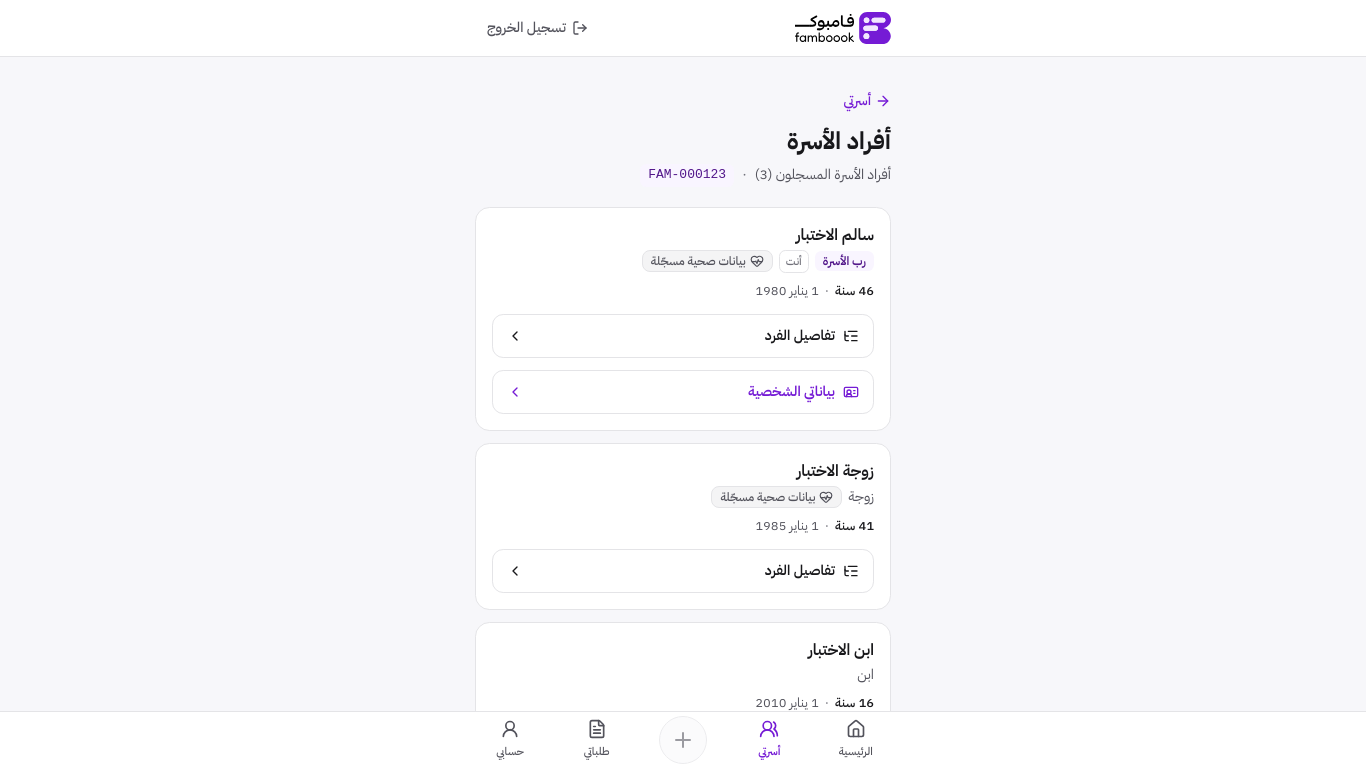
the member sheet «الحالة الصحية» › labels current and ended records, shows the end date only for ended ones, and «غير مسجّل» for a null date
Click the button "تفاصيل الفرد" below "زوجة الاختبار" at (800, 570), box x1=492 y1=549 x2=874 y2=593
(page scrolled)
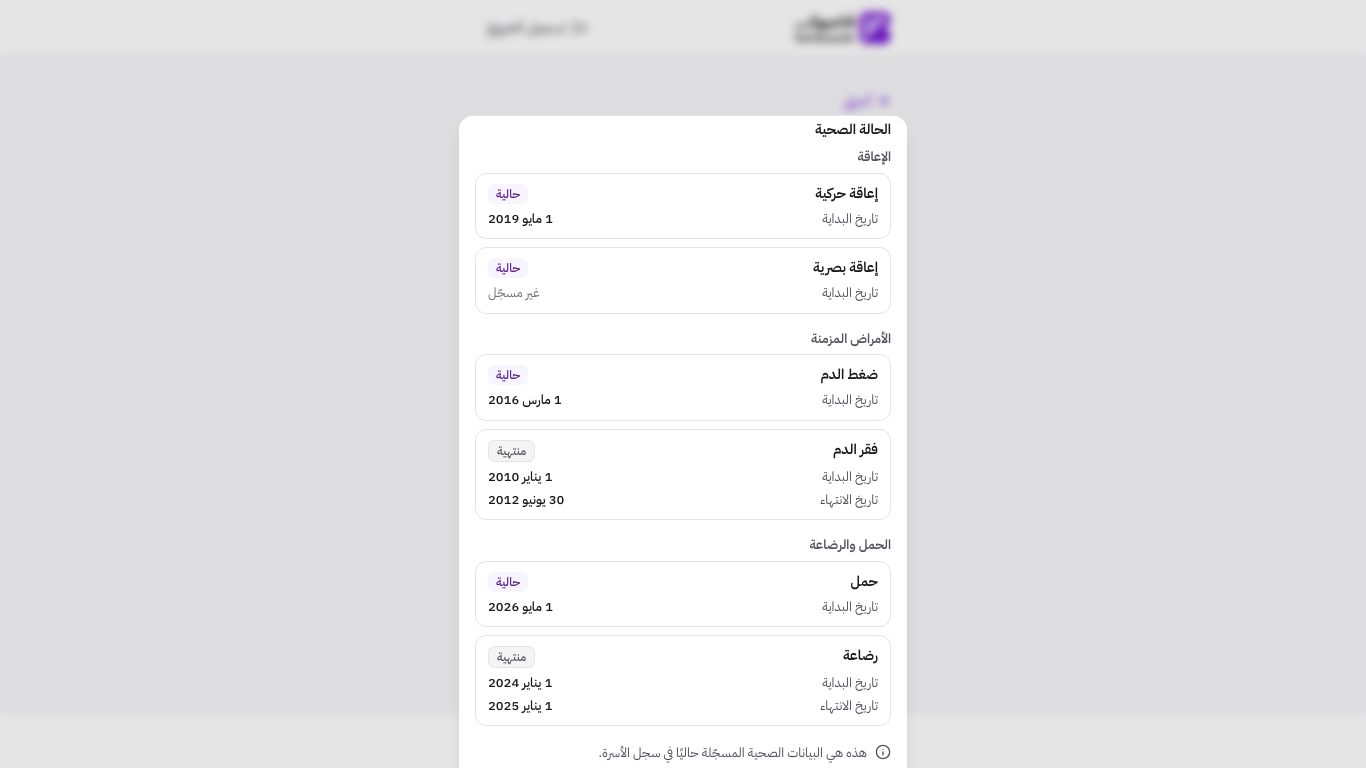
Expected: the text "حالية" in the row of "ضغط الدم" is shown, x1=496 y1=366 x2=520 y2=384
Expected: the text "منتهية" in the row of "فقر الدم" is shown, x1=497 y1=442 x2=526 y2=460
Expected: the 1st text "تاريخ الانتهاء" is shown, x1=820 y1=491 x2=878 y2=509
